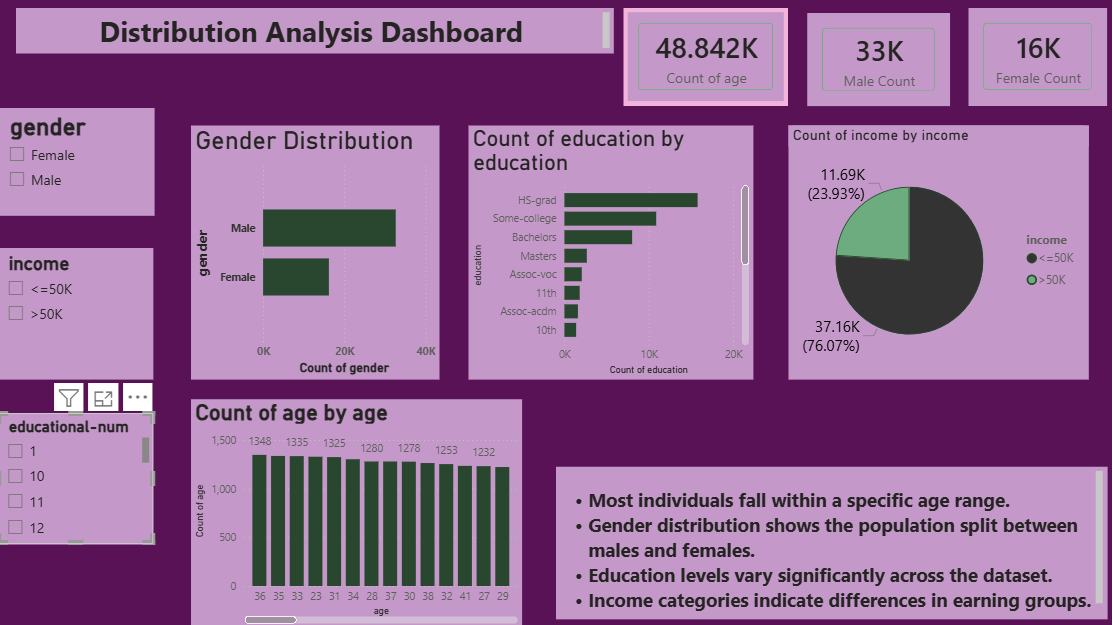

This screenshot's page, from the dashboard's own definition file:
{"tool":"powerbi","page":{"name":"Page 1","canvas":[1280,720],"ordinal":0},"visuals":[{"type":"clusteredColumnChart","fields":{"Category":["adult.age"],"Y":["CountNonNull(adult.age)"]},"box":[222.9,458.6,378.6,261.4],"z":0},{"type":"clusteredBarChart","title":"Gender Distribution","fields":{"Category":["adult.gender"],"Y":["CountNonNull(adult.gender)"]},"box":[222.9,145.7,284.3,290],"z":1000},{"type":"cardVisual","title":"Total People Count","fields":{"Data":["CountNonNull(adult.age)"]},"box":[716.7,11.7,188.3,111.7],"z":2000},{"type":"slicer","fields":{"Values":["adult.gender"]},"box":[2.9,125.7,178.6,122.9],"z":3000},{"type":"clusteredBarChart","fields":{"Category":["adult.education"],"Y":["CountNonNull(adult.education)"]},"box":[540,145.7,325.7,290],"z":4000},{"type":"pieChart","fields":{"Category":["adult.income"],"Y":["CountNonNull(adult.income)"]},"box":[905.7,145.7,342.9,290],"z":5000},{"type":"textbox","box":[23.3,11.7,683.3,51.7],"z":6000},{"type":"textbox","box":[640,535.7,630,174.3],"z":7000},{"type":"slicer","fields":{"Values":["adult.educational-num"]},"box":[1.4,474.3,178.6,150],"z":8000},{"type":"slicer","fields":{"Values":["adult.income"]},"box":[1.4,285.7,178.6,150],"z":9000},{"type":"cardVisual","fields":{"Data":["adult.Male Count"]},"box":[926.7,16.7,163.3,106.7],"z":10000},{"type":"cardVisual","fields":{"Data":["adult.Female Count"]},"box":[1111.7,11.7,158.3,111.7],"z":11000}]}

Visuals, with their boxes in screenshot pixels (x1, y1, x2, y2), scaled from the page's 1280x720 canvas onto the 1112x625 screenshot:
clusteredColumnChart - adult.age x CountNonNull(adult.age): crop(194, 398, 523, 624)
"Gender Distribution" clusteredBarChart: crop(194, 126, 441, 378)
"Total People Count" cardVisual: crop(623, 10, 786, 107)
slicer - adult.gender: crop(3, 109, 158, 216)
clusteredBarChart - adult.education x CountNonNull(adult.education): crop(469, 126, 752, 378)
pieChart - adult.income x CountNonNull(adult.income): crop(787, 126, 1085, 378)
textbox: crop(20, 10, 614, 55)
textbox: crop(556, 465, 1103, 616)
slicer - adult.educational-num: crop(1, 412, 156, 542)
slicer - adult.income: crop(1, 248, 156, 378)
cardVisual - adult.Male Count: crop(805, 14, 947, 107)
cardVisual - adult.Female Count: crop(966, 10, 1103, 107)
